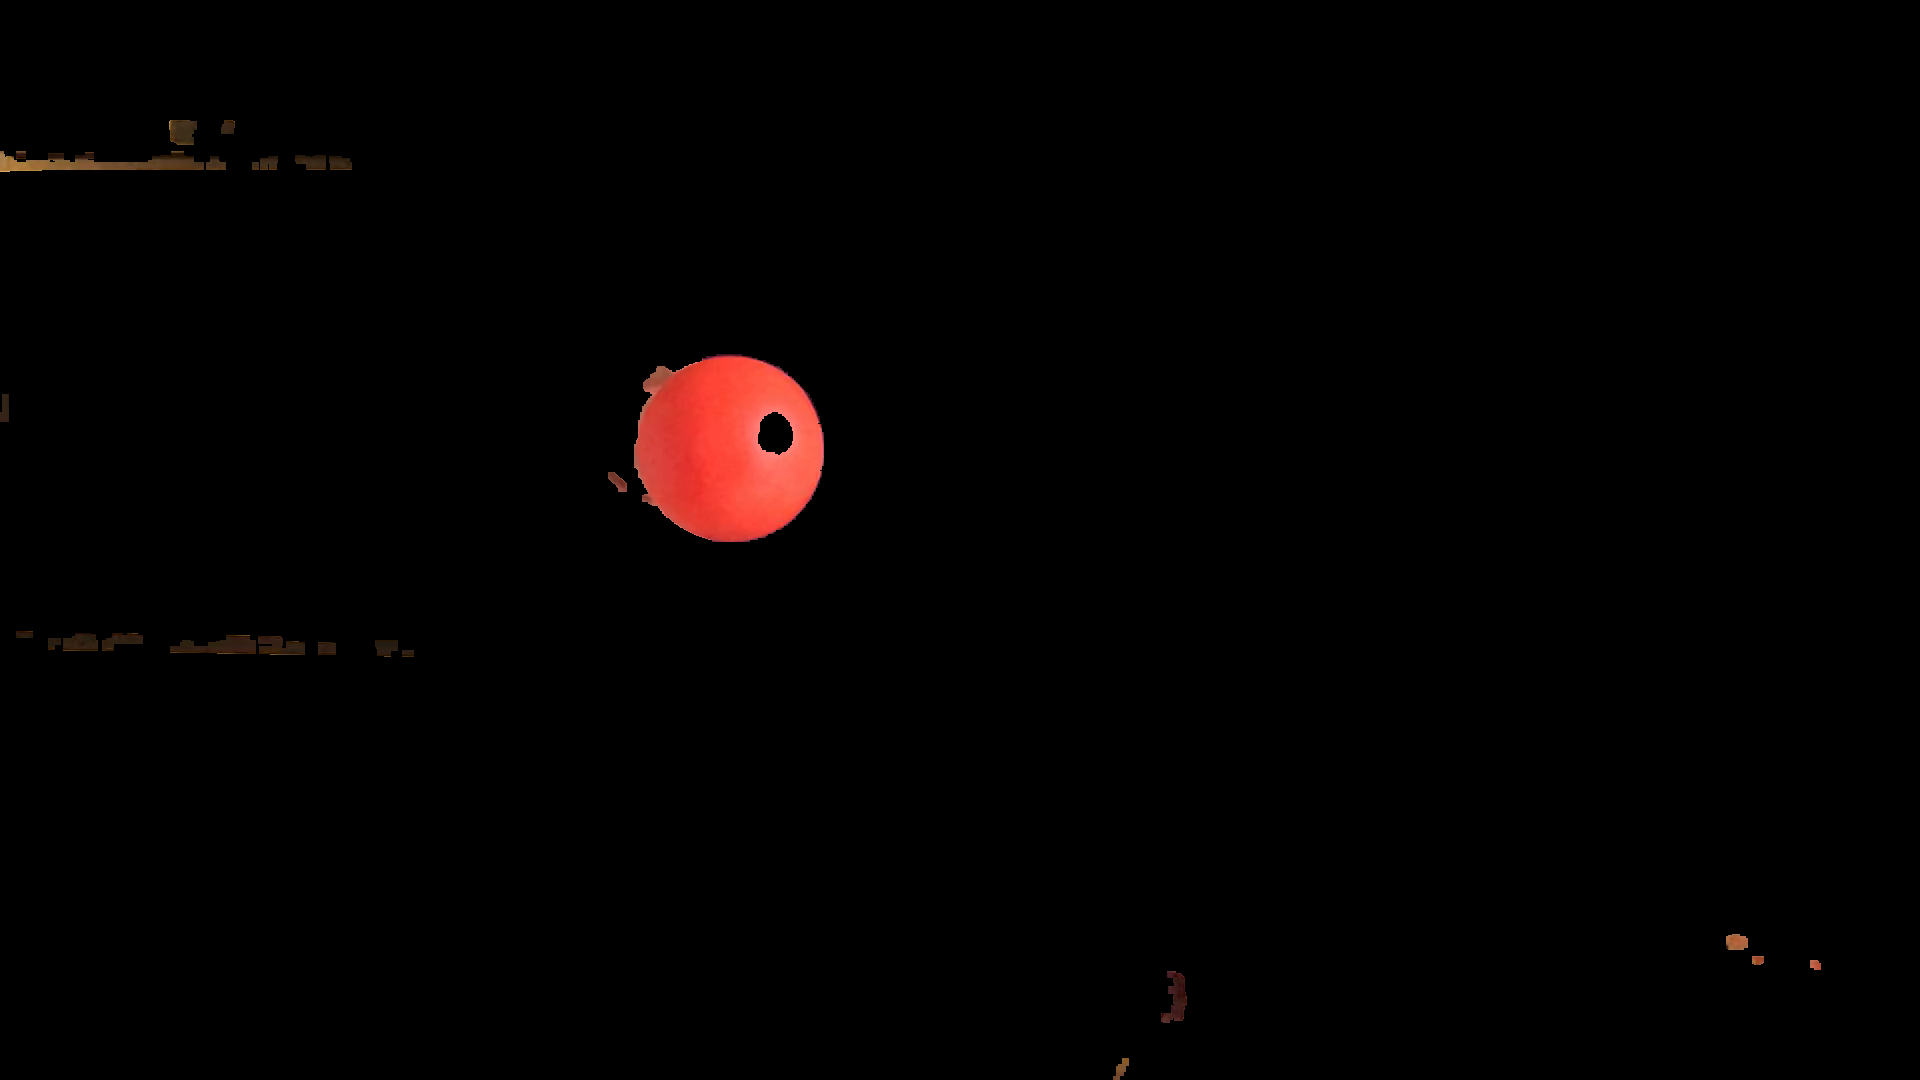Ball: (637, 355, 823, 547)
